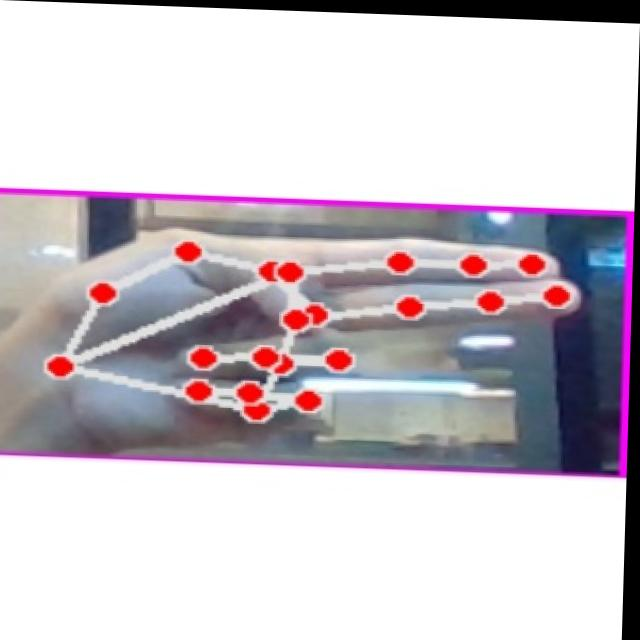H: (9, 217, 595, 450)
